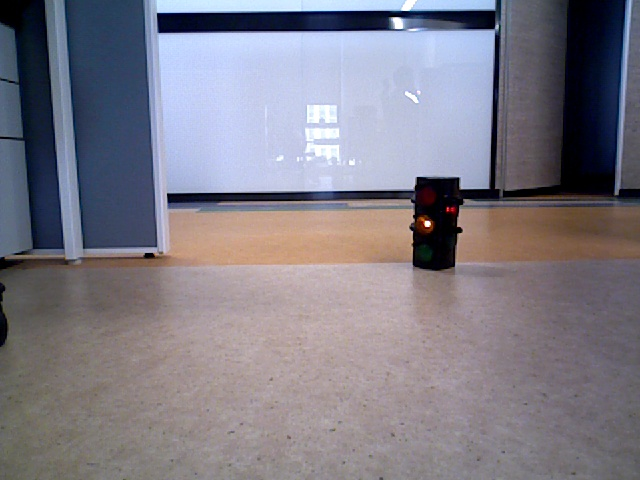yellow: (413, 182, 456, 264)
